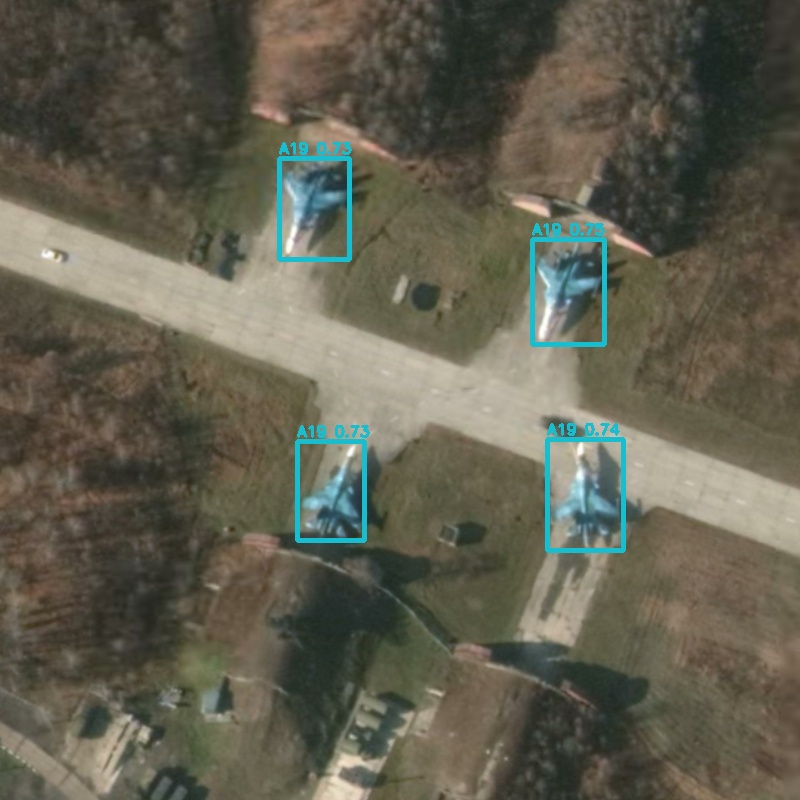A19: (547, 439, 623, 550), (532, 239, 604, 344), (279, 158, 349, 259), (297, 441, 364, 540)
